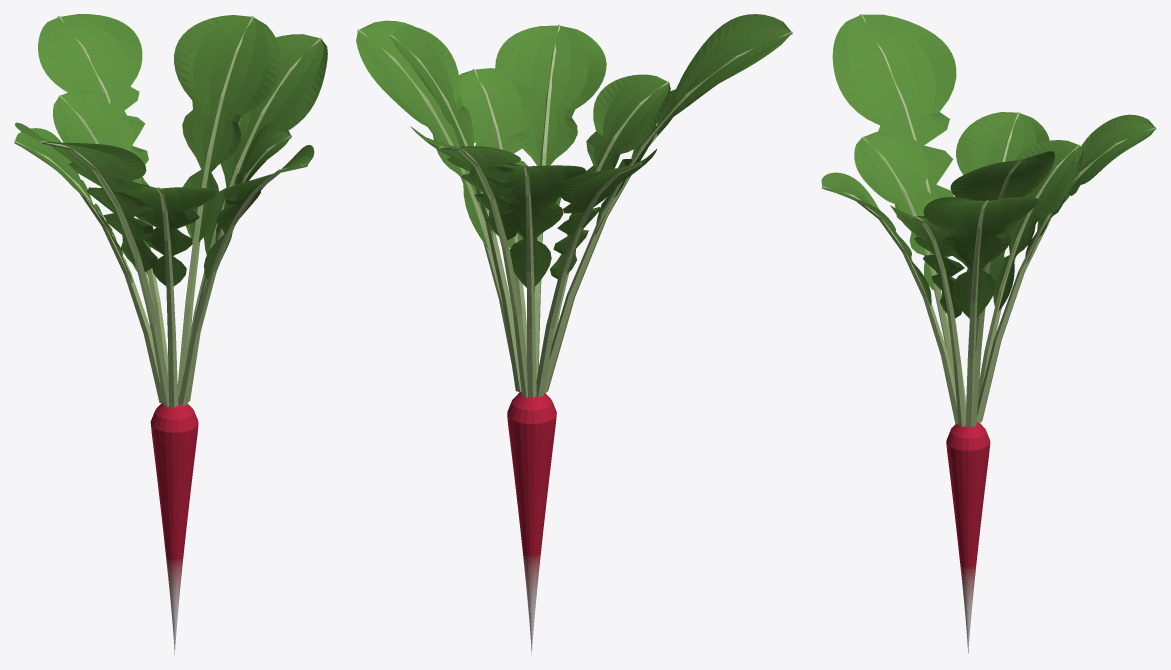
Rendered from radish_harvest_v12.glb.
3 views of the same model, side by side, from view 1: azimuth 30°, elevation 25°; view 2: azimuth 150°, elevation 25°; view 3: azimuth 270°, elevation 25° (orthographic). The views are drawn at different scales.
Visible parts, largest first — view 1: plant; view 2: plant; view 3: plant.
Boxes of the visible parts, x1,y1,x2,y2 form: plant: [14, 14, 327, 654]; plant: [356, 14, 792, 654]; plant: [821, 14, 1156, 653].
Size of the model in its own units: 0.2848 by 0.4674 by 0.2553.
Materials: 1 (1 with a texture image).
